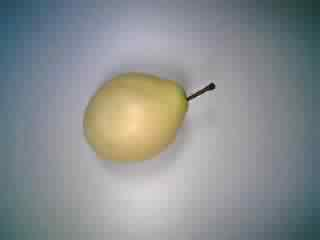pear: (78, 65, 222, 171)
